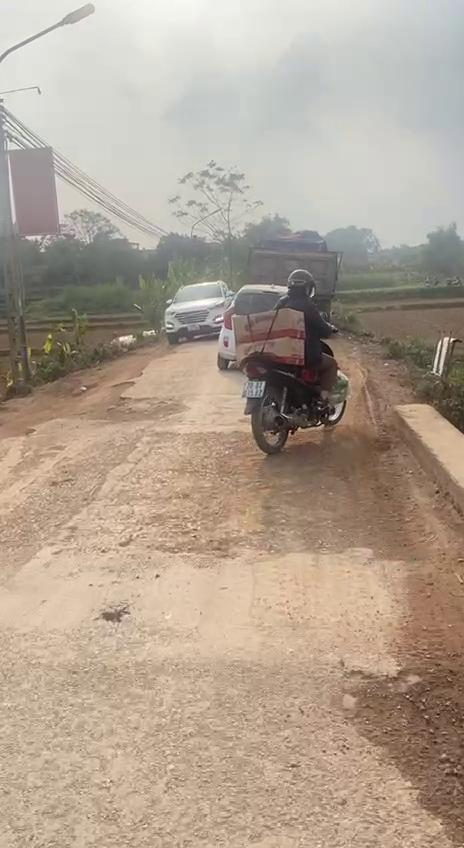pothole: (70, 380, 188, 427), (146, 528, 260, 564)
